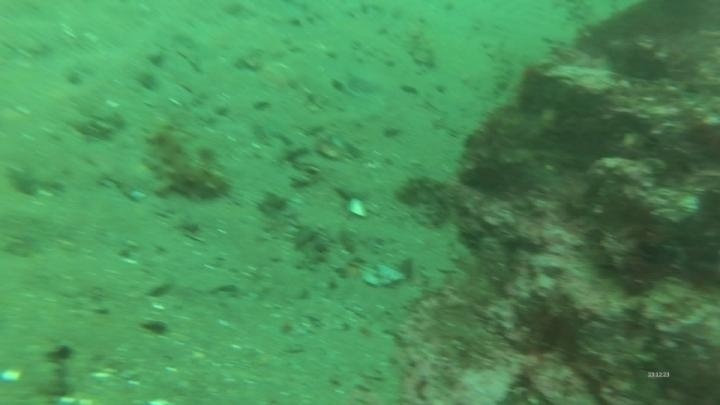holothurian: (143, 121, 235, 205), (395, 172, 453, 230)
